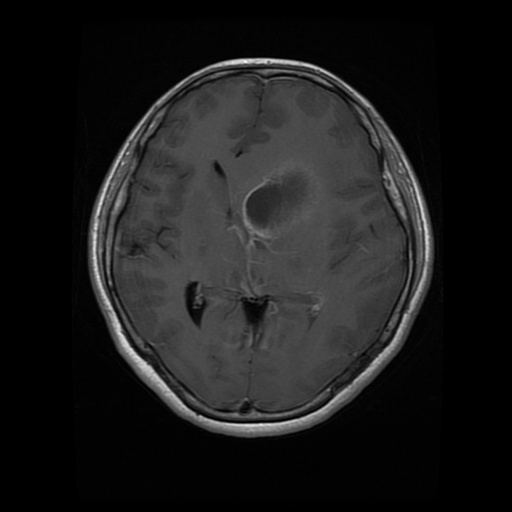glioma: (240, 156, 321, 241)
